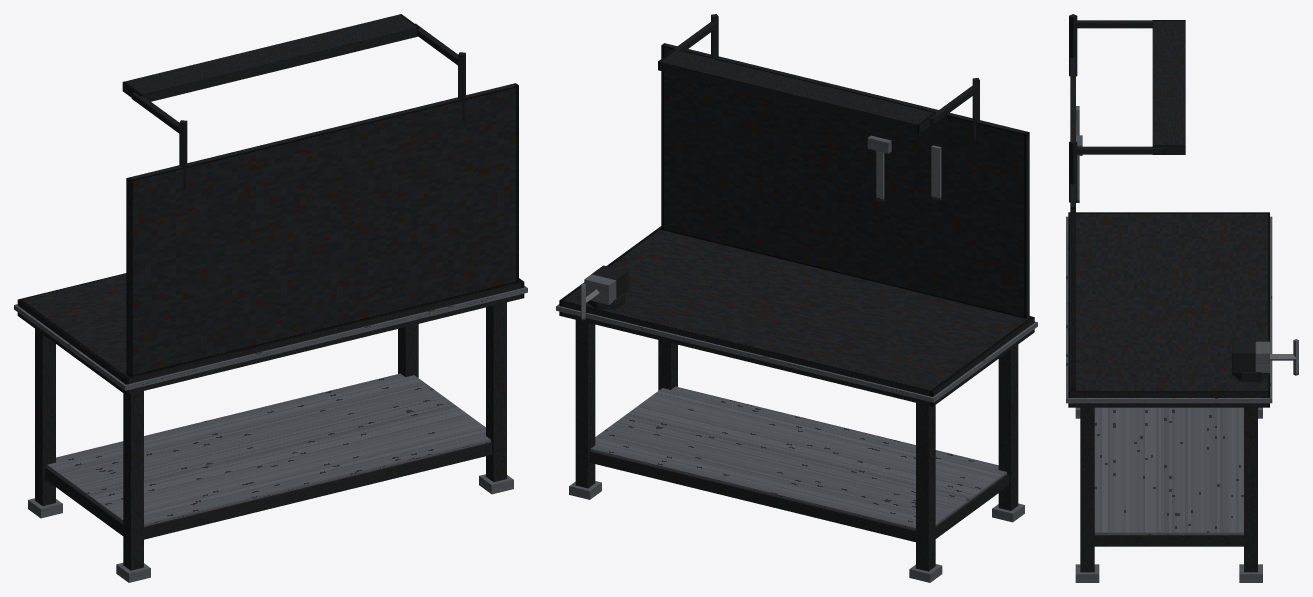
Rendered from work_bench_industrial_hazard.glb.
3 views of the same model, side by side, from view 1: azimuth 30°, elevation 25°; view 2: azimuth 150°, elevation 25°; view 3: azimuth 270°, elevation 25° (orthographic). The views are drawn at different scales.
Parts seen in each view (by area): view 1: work_bench_industrial_hazard; view 2: work_bench_industrial_hazard; view 3: work_bench_industrial_hazard.
Part boxes in pixels (<box>): work_bench_industrial_hazard: <box>14,14,527,582</box>; work_bench_industrial_hazard: <box>556,14,1037,582</box>; work_bench_industrial_hazard: <box>1066,14,1298,582</box>.
Size of the model in its own units: 1.82 by 1.94 by 0.982.
Materials: 5 (5 with a texture image).
